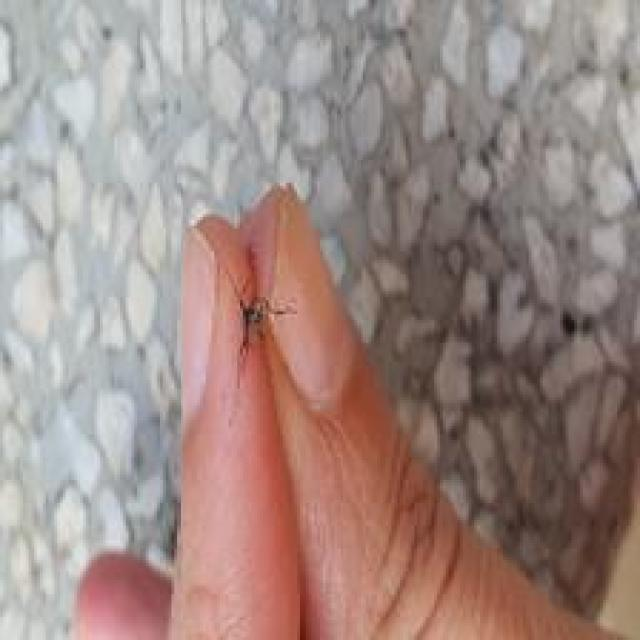Aedes albopictus: (220, 266, 297, 360)
